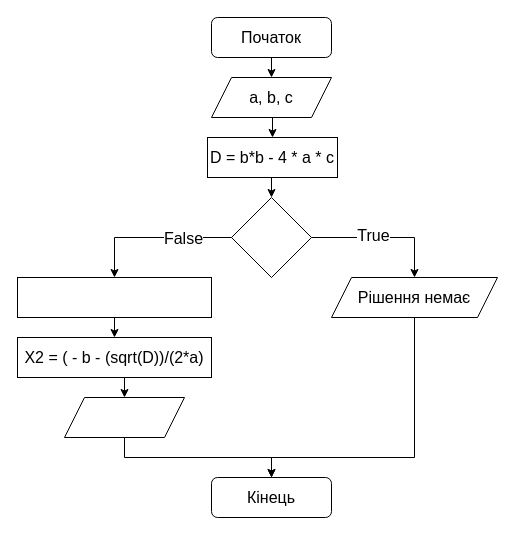
The diagram is 515 pixels wide and 535 high, and some of its shapes have lost their labels. Here are the shapes that lost their labels. From the top down, the centre of each, then its label:
At pixel 271 237: "D<0".
At pixel 114 297: "X1 = ( - b + (sqrt(D))/(2*a)".
At pixel 124 417: "X1, X2".
